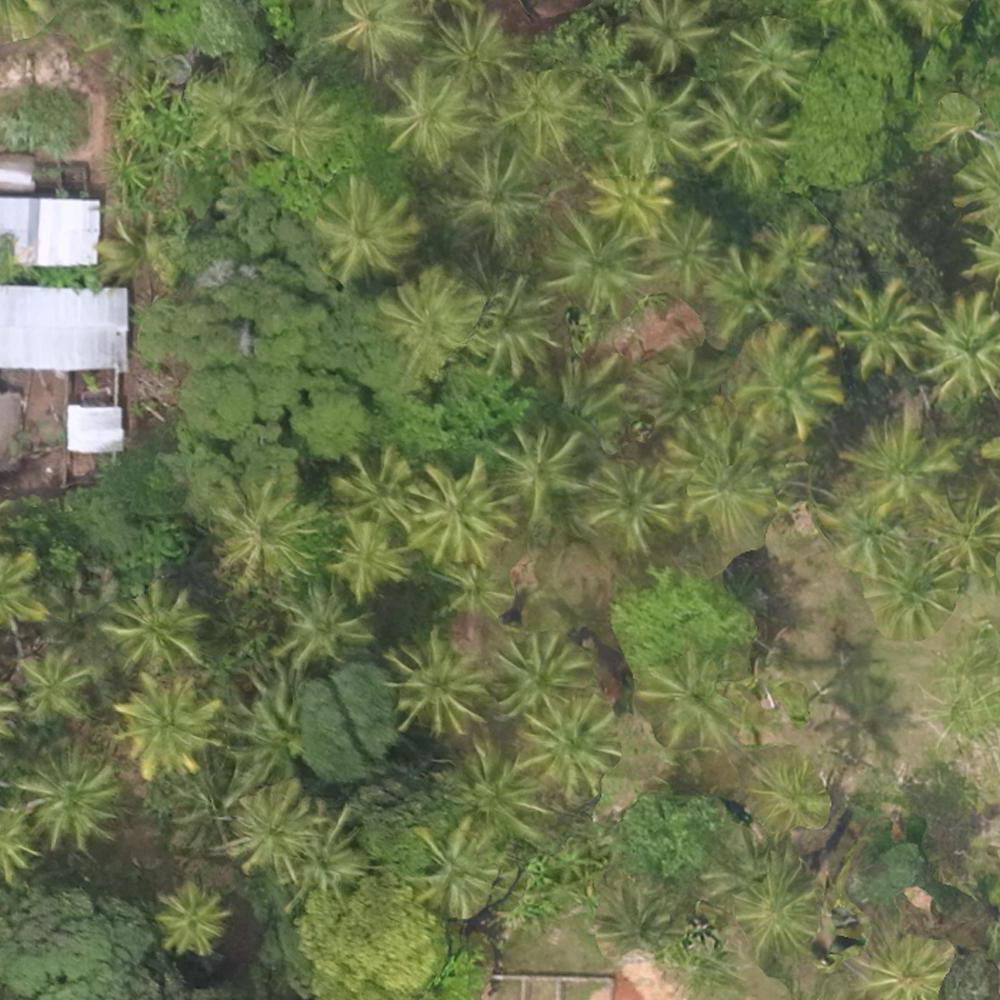Palm: (407, 462, 511, 563), (116, 673, 220, 773), (741, 328, 844, 428), (313, 174, 413, 275), (638, 657, 741, 755), (845, 418, 953, 511), (543, 213, 645, 311), (382, 629, 482, 728), (516, 706, 624, 796), (211, 483, 311, 579), (831, 279, 926, 377), (599, 72, 700, 164), (15, 755, 119, 842), (468, 268, 554, 371), (379, 64, 470, 161), (379, 269, 470, 365), (915, 295, 1000, 397), (449, 146, 537, 243), (582, 461, 677, 550), (493, 630, 587, 718), (699, 85, 786, 180), (491, 425, 587, 511), (102, 591, 202, 672), (733, 858, 820, 950), (866, 546, 957, 633), (687, 452, 782, 533), (583, 152, 672, 236), (327, 448, 419, 529), (853, 932, 959, 1000), (924, 489, 1000, 583), (725, 15, 809, 99), (230, 794, 316, 876), (270, 592, 364, 667), (192, 60, 271, 149), (324, 1, 428, 68), (430, 1, 510, 86), (641, 208, 721, 292), (330, 522, 411, 597), (625, 1, 711, 71), (258, 78, 336, 155), (749, 213, 821, 291), (752, 754, 827, 826), (154, 885, 232, 952), (429, 558, 505, 625), (13, 652, 88, 717)
